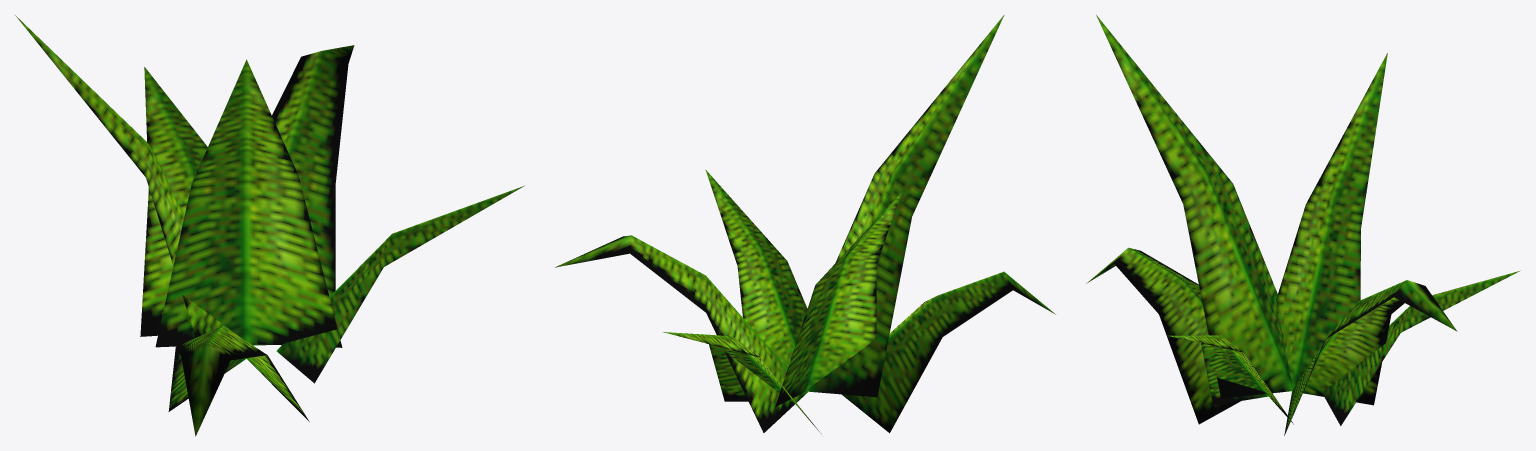
File: teen27.gltf
3 renders of one model, left to right at view 1: azimuth 30°, elevation 25°; view 2: azimuth 150°, elevation 25°; view 3: azimuth 270°, elevation 25°, orthographic. The views are drawn at different scales.
Parts seen in each view (by area): view 1: teen27; view 2: teen27; view 3: teen27.
Boxes of the visible parts, box(x1,y1,x2,y2) form: teen27: box(15, 15, 524, 436); teen27: box(555, 15, 1055, 434); teen27: box(1086, 15, 1520, 435).
Bounding box in the file's own units: 65.92 × 71.79 × 78.82.
1 material, 1 textured.
